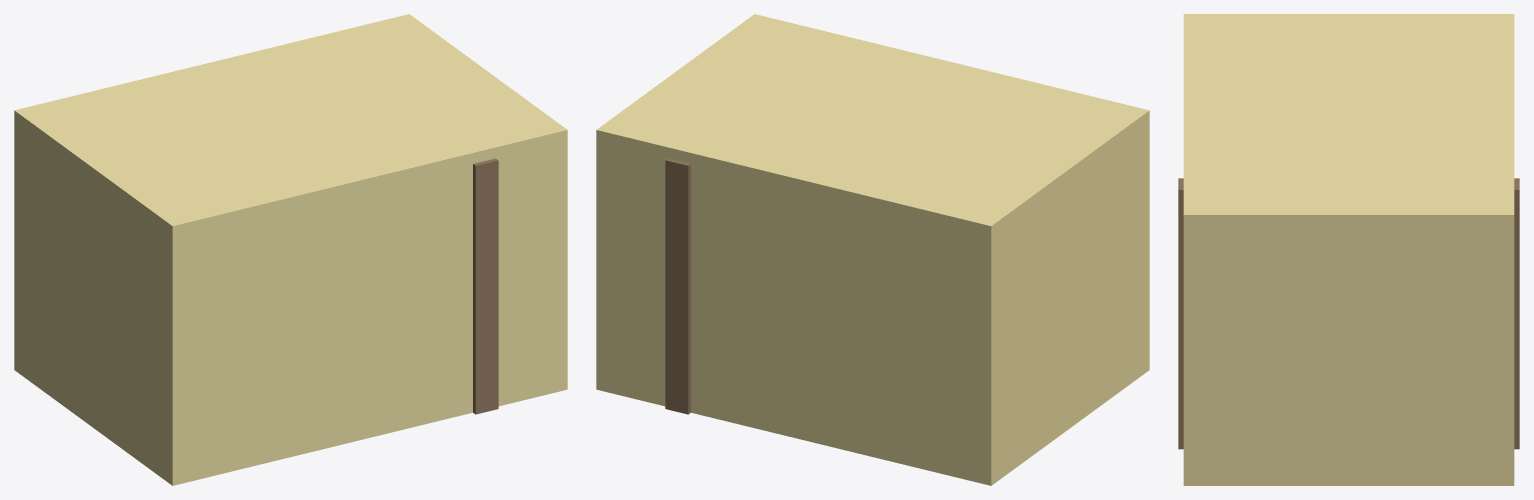
File: Prop_Live_AMF_HayBale_V1.glb
3 renders of one model, left to right at view 1: azimuth 30°, elevation 25°; view 2: azimuth 150°, elevation 25°; view 3: azimuth 270°, elevation 25°, orthographic. The views are drawn at different scales.
Visible parts, largest first — view 1: Prop_Live_AMF_HayBale_V1; view 2: Prop_Live_AMF_HayBale_V1; view 3: Prop_Live_AMF_HayBale_V1.
Boxes of the visible parts, <box> form: Prop_Live_AMF_HayBale_V1: <box>14,14,567,485</box>; Prop_Live_AMF_HayBale_V1: <box>596,14,1149,485</box>; Prop_Live_AMF_HayBale_V1: <box>1178,14,1519,485</box>.
Bounding box in the file's own units: 0.8641 × 0.543 × 0.62.
